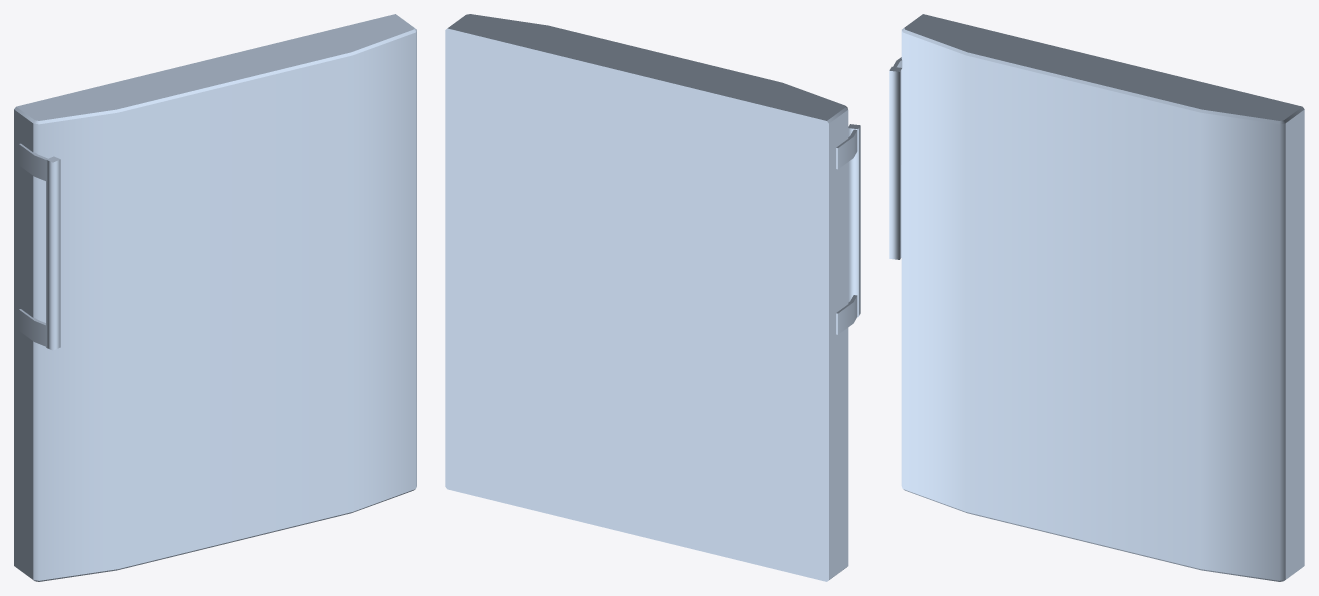
Rendered from RFAIPP_Fridge_Door_Down.FBX.
3 renders of one model, left to right at view 1: azimuth 30°, elevation 25°; view 2: azimuth 150°, elevation 25°; view 3: azimuth 330°, elevation 25°, orthographic.
Parts seen in each view (by area): view 1: RFAIPP_Fridge_Door_Down; view 2: RFAIPP_Fridge_Door_Down; view 3: RFAIPP_Fridge_Door_Down.
Boxes of the visible parts, x1,y1,x2,y2 form: RFAIPP_Fridge_Door_Down: [14, 14, 416, 581]; RFAIPP_Fridge_Door_Down: [445, 14, 860, 581]; RFAIPP_Fridge_Door_Down: [889, 14, 1304, 581].
Bounding box in the file's own units: 0.5429 × 0.6198 × 0.0862.
